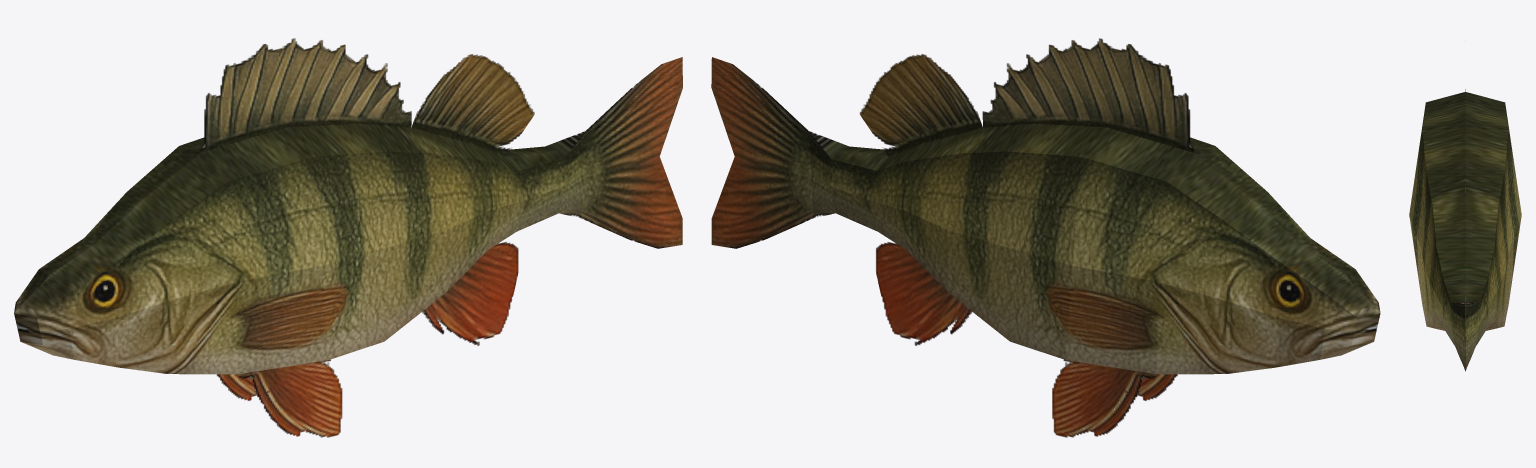
The model's file is Perch.glb.
3 renders of one model, left to right at view 1: azimuth 30°, elevation 25°; view 2: azimuth 150°, elevation 25°; view 3: azimuth 270°, elevation 25°, orthographic. The views are drawn at different scales.
Parts seen in each view (by area): view 1: Perch; view 2: Perch; view 3: Perch.
Boxes of the visible parts, <box> form: Perch: <box>14,38,682,437</box>; Perch: <box>711,38,1380,437</box>; Perch: <box>1409,89,1521,371</box>.
Size of the model in its own units: 1.37 by 0.7727 by 0.2452.
Materials: 1 (1 with a texture image).
